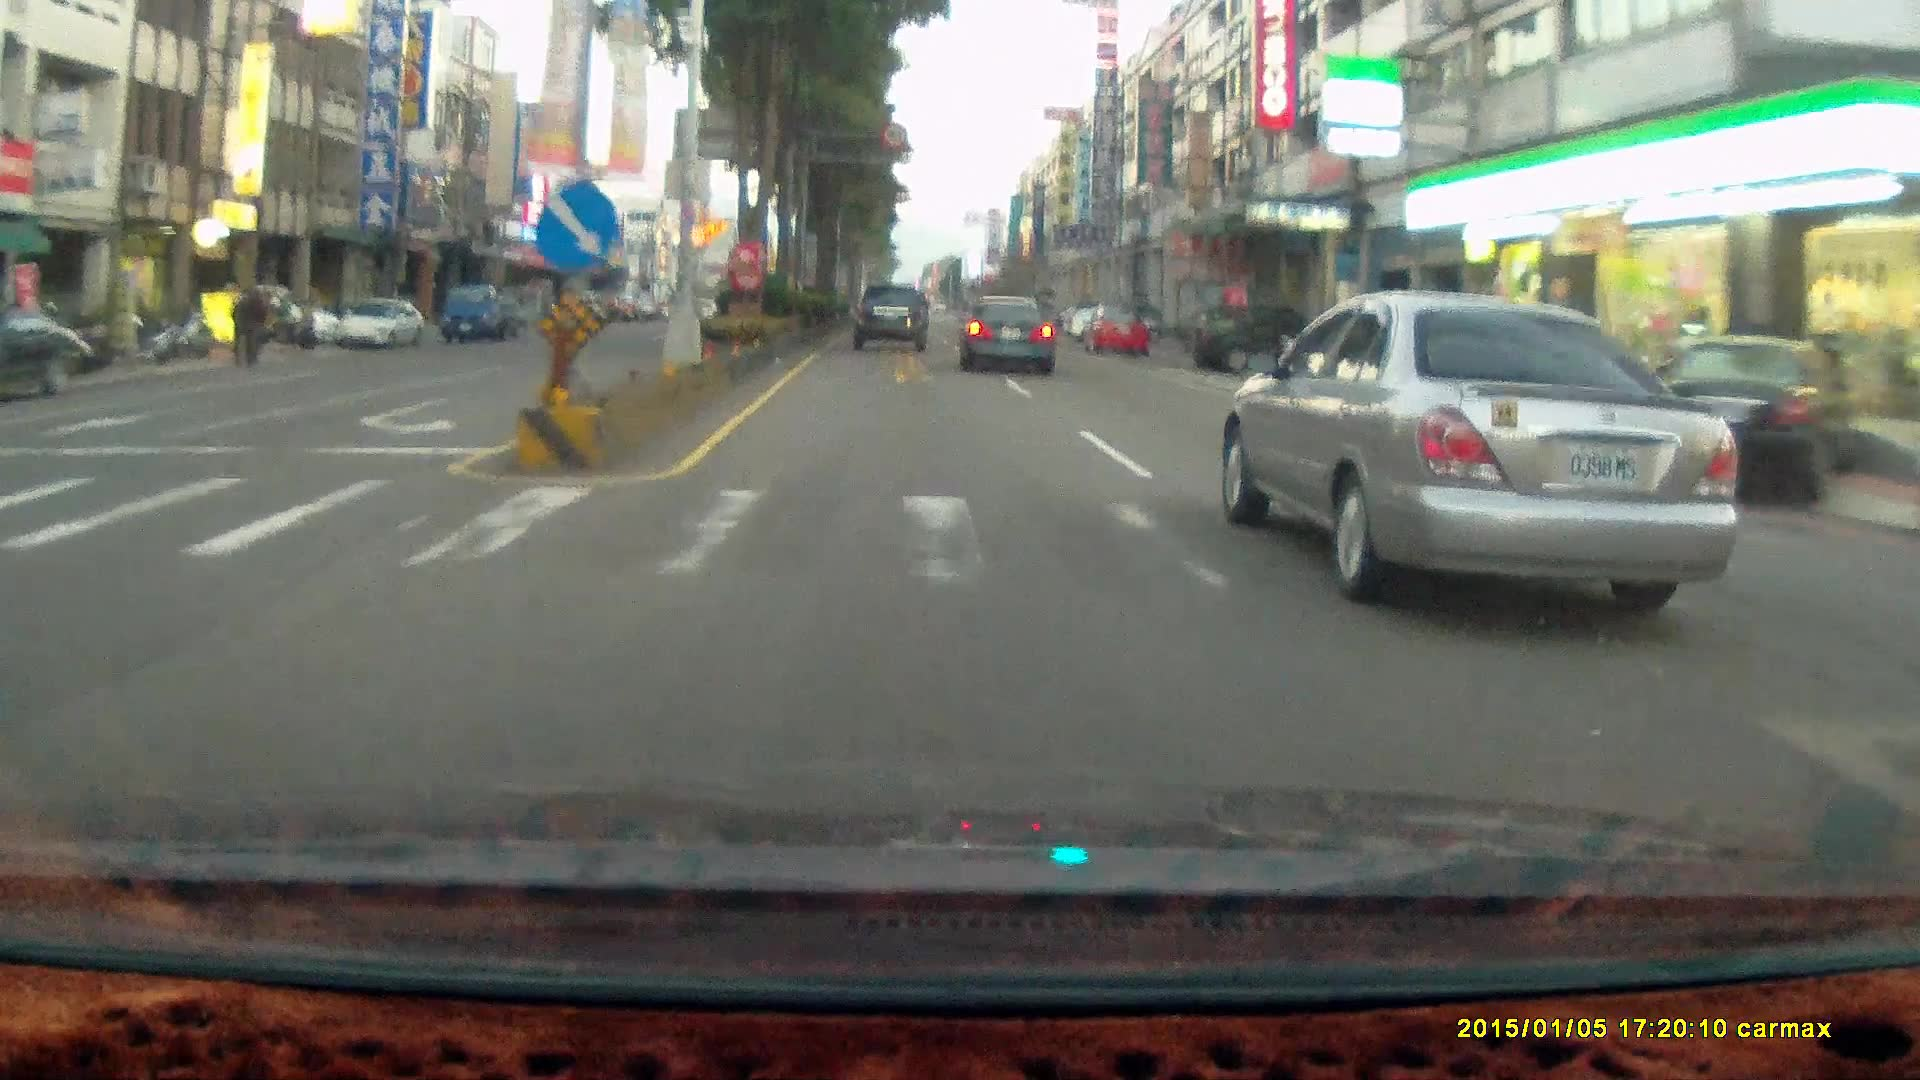pedestrian: (237, 287, 268, 366), (240, 287, 270, 367)
vehicle: (1227, 286, 1740, 609), (1656, 331, 1851, 502), (1677, 331, 1849, 516), (1309, 316, 1444, 418), (1196, 309, 1329, 379), (1188, 304, 1321, 372), (957, 296, 1058, 375), (958, 296, 1053, 372), (0, 315, 78, 404), (444, 290, 534, 354), (853, 284, 932, 355), (330, 298, 429, 353), (852, 281, 929, 351), (333, 299, 424, 348), (440, 283, 516, 342), (1086, 304, 1153, 360), (1079, 304, 1148, 356), (557, 290, 608, 331)
